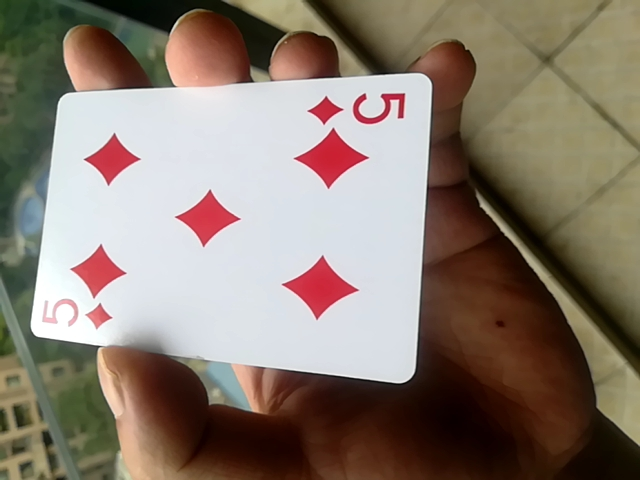fk 5: (23, 71, 430, 384)
